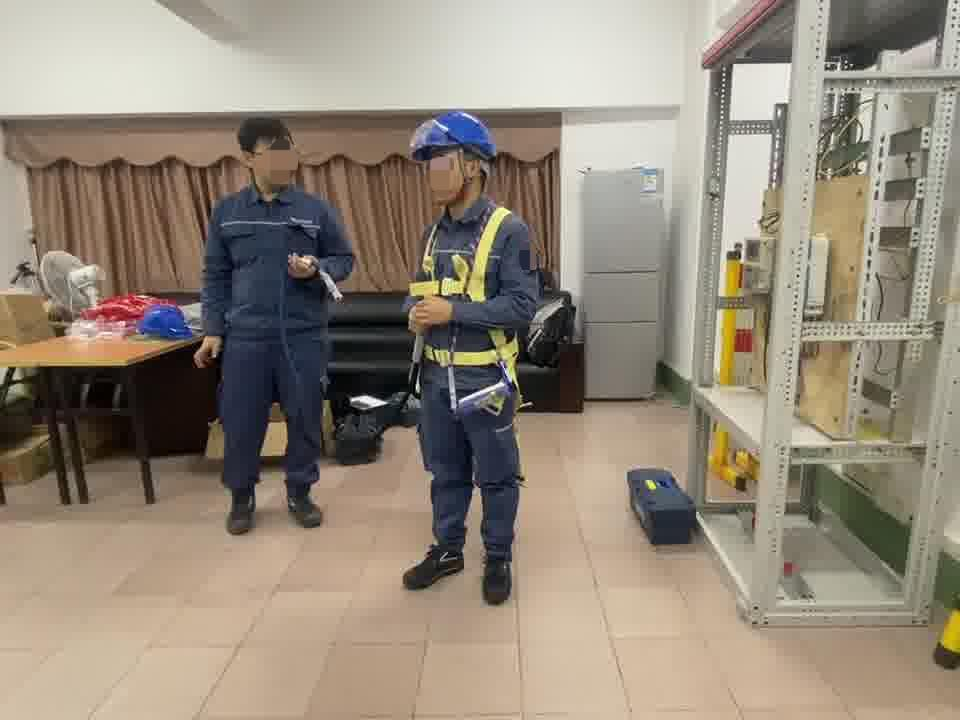halt: (411, 112, 502, 208)
inear: (457, 151, 489, 195)
unhalt: (240, 118, 303, 193)
